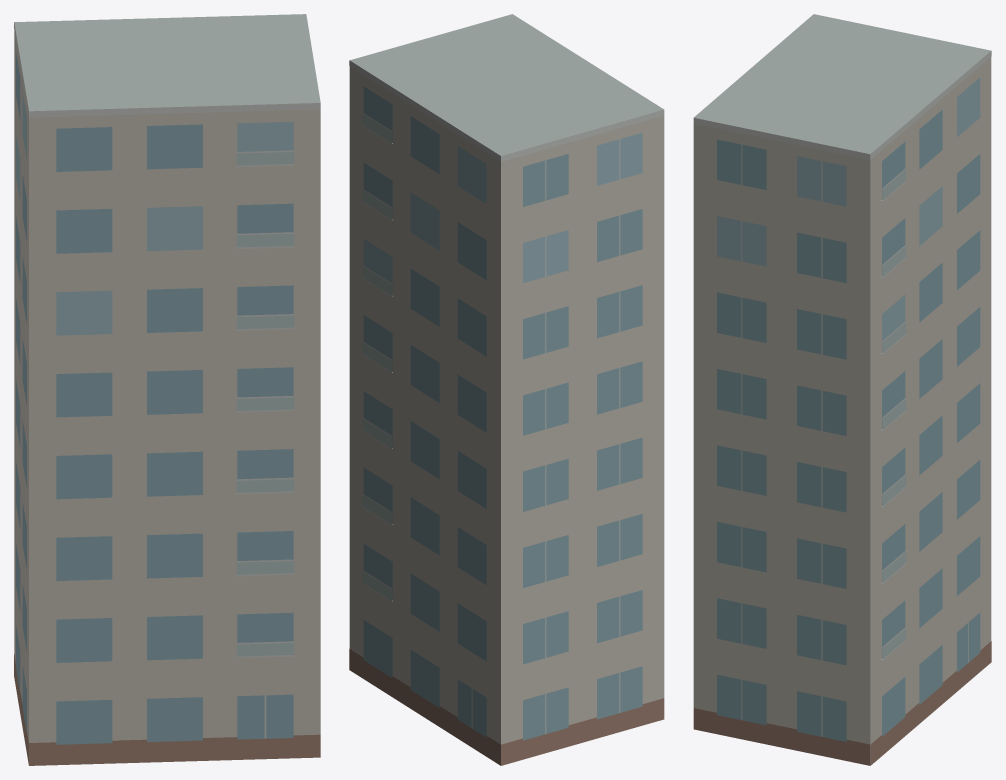
The model's file is survey-upis-32974193.glb.
3 views of the same model, side by side, from view 1: azimuth 30°, elevation 25°; view 2: azimuth 150°, elevation 25°; view 3: azimuth 270°, elevation 25° (orthographic). The views are drawn at different scales.
Visible parts, largest first — view 1: survey-upis-32974193.tmp; view 2: survey-upis-32974193.tmp; view 3: survey-upis-32974193.tmp.
Part boxes in pixels (x1=…): survey-upis-32974193.tmp: x1=14, y1=14, x2=320, y2=765; survey-upis-32974193.tmp: x1=349, y1=14, x2=664, y2=765; survey-upis-32974193.tmp: x1=693, y1=14, x2=991, y2=765.
Size of the model in its own units: 12.45 by 25.3 by 11.18.
